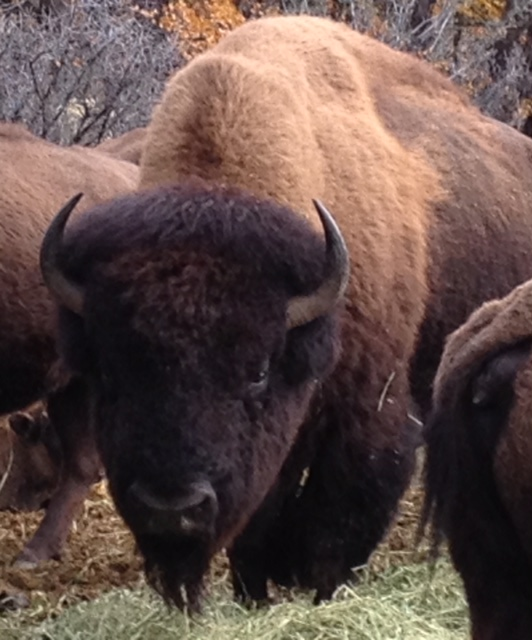yak: (36, 13, 532, 593)
